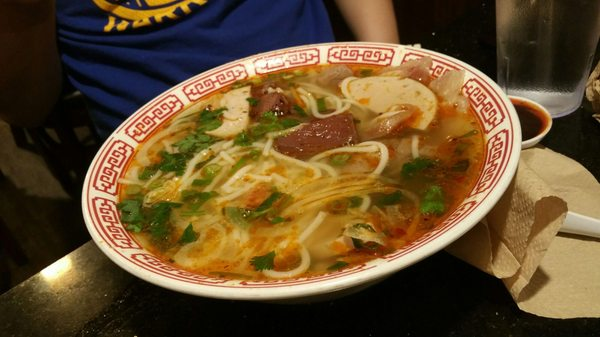sushi: (60, 30, 521, 302)
